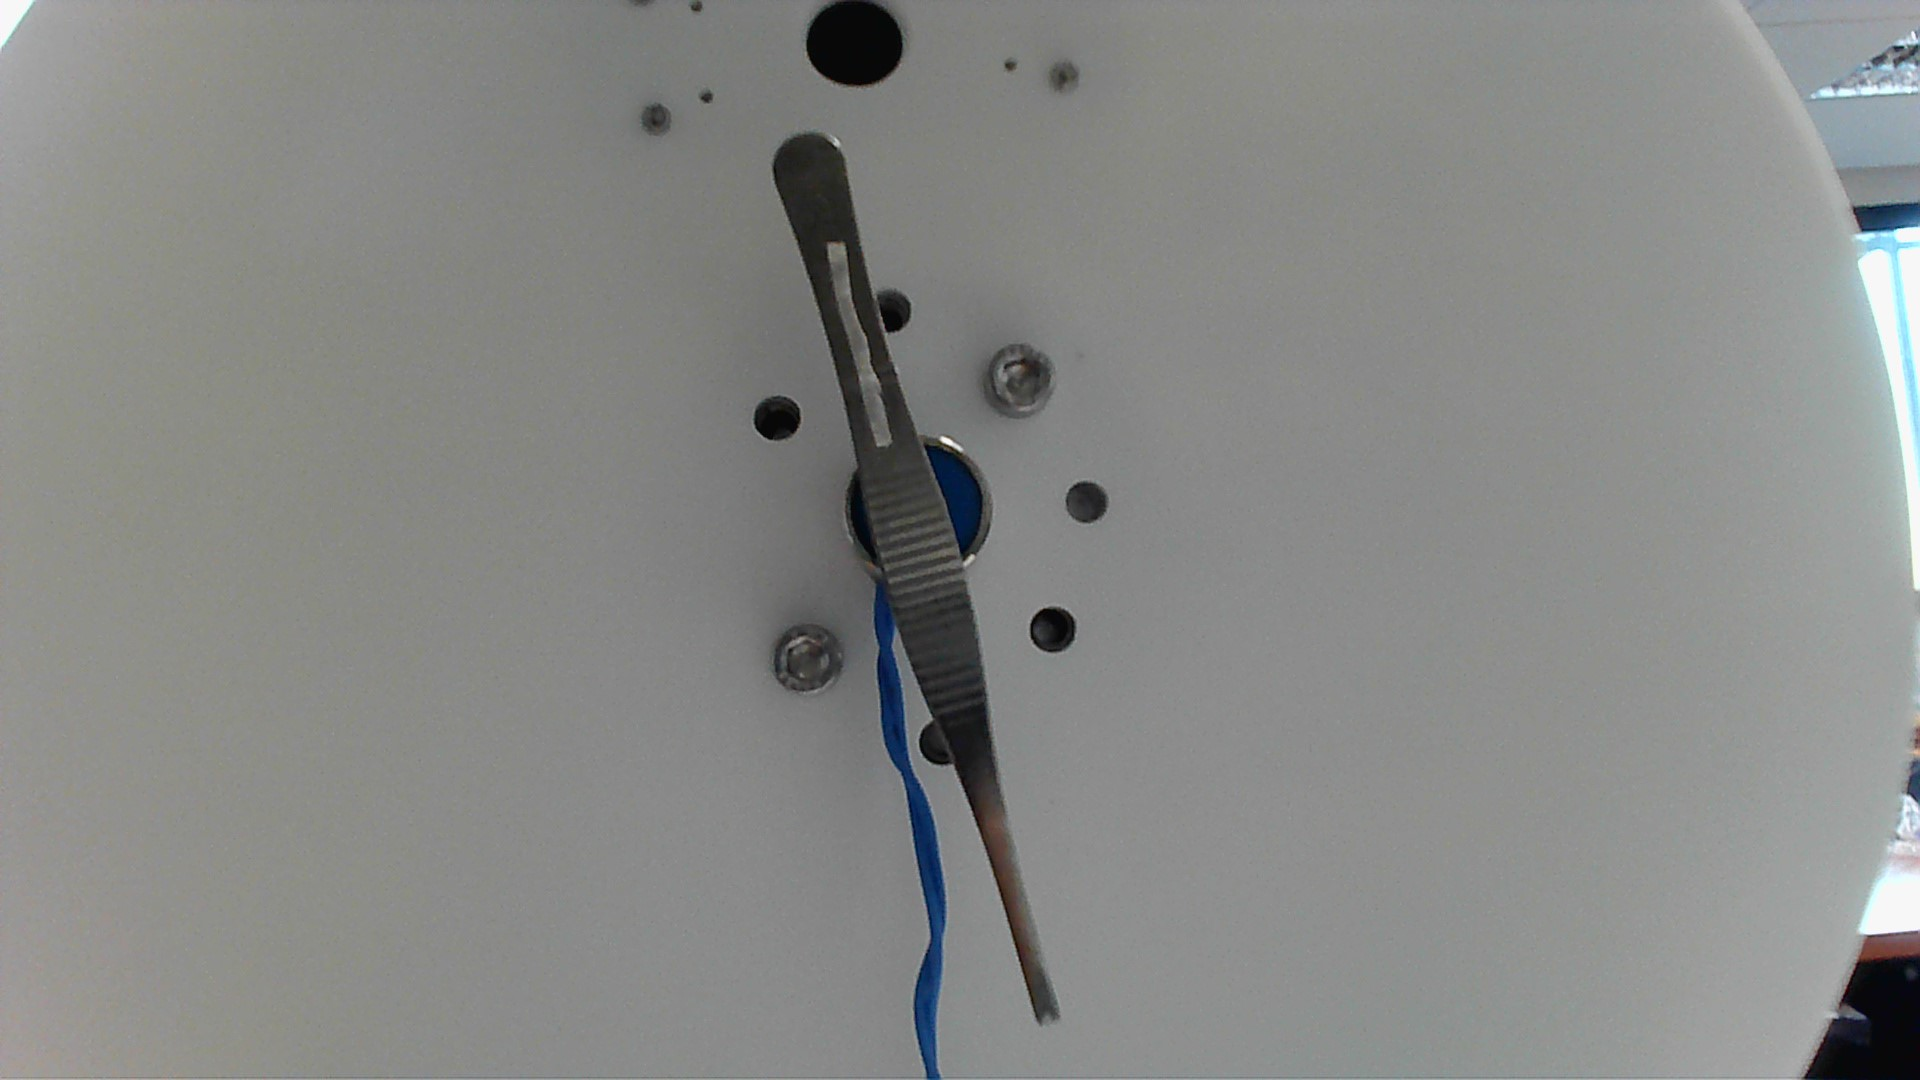Scratches: (825, 231, 903, 456)
